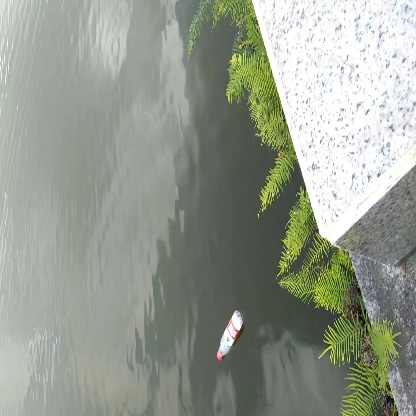milk-box: (214, 308, 249, 363)
